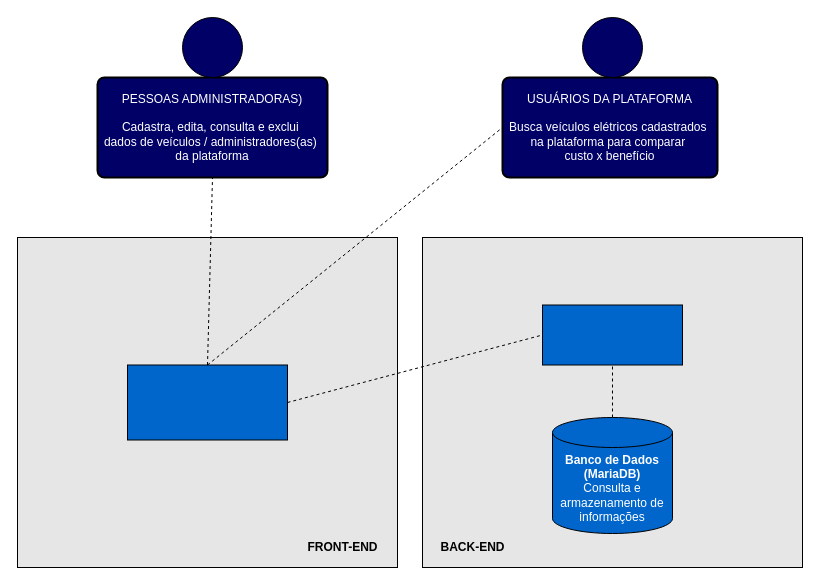
This 820x585 diagram has some shape labels left out. The centre of each missing label's shape, as x and y in pixels:
"API Application (C#, ASP.NET Core 7)" goes at point (612, 334).
"Single-Page Application (TypeScript, Angular 15+)" goes at point (207, 402).
